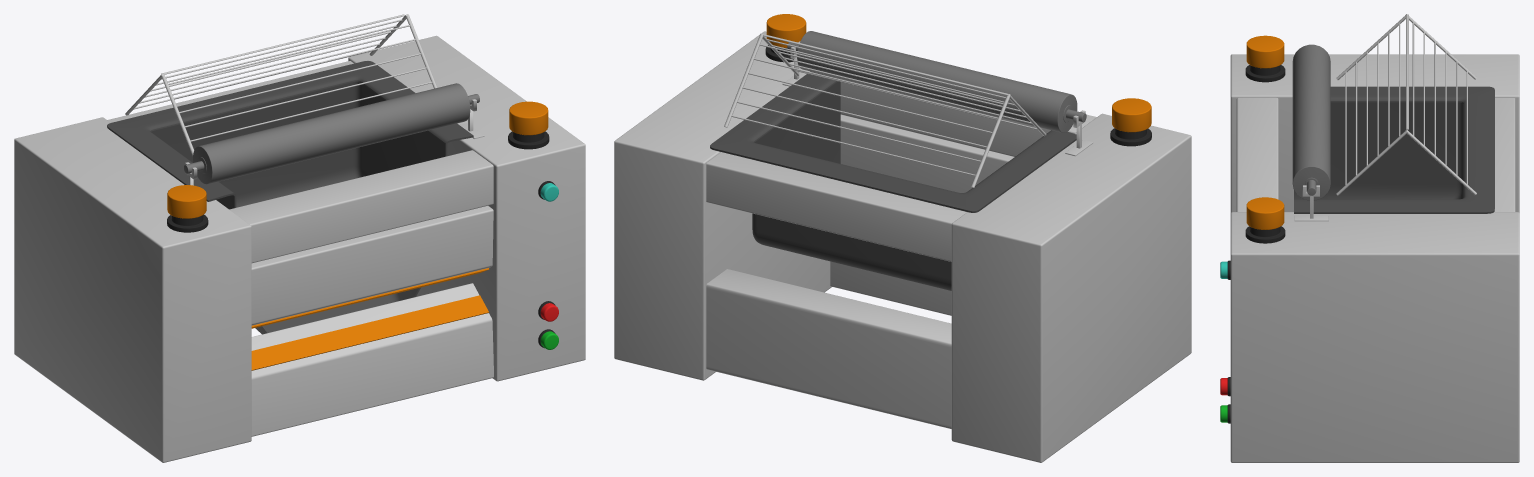
The model's file is dough_roller.FBX.
3 views of the same model, side by side, from view 1: azimuth 30°, elevation 25°; view 2: azimuth 150°, elevation 25°; view 3: azimuth 270°, elevation 25° (orthographic). The views are drawn at different scales.
Parts seen in each view (by area): view 1: main_body01, main_body02, dough_pot, main_body05, main_body04, main_body03, roller, steel_stand, bars01, top_button02, top_button01, main_body06 (+3 smaller); view 2: main_body01, main_body02, main_body07, dough_pot, main_body06, roller, steel_stand, main_body04, main_body03, main_body05, top_button01, top_button02 (+1 smaller); view 3: main_body02, dough_pot, main_body01, roller, steel_stand, main_body03, main_body06, top_button01, top_button02, top_buttonbase01, top_buttonbase02, holder01.
Boxes of the visible parts, x1,y1,x2,y2 form: main_body01: (14,117,251,462); main_body02: (348,35,585,381); dough_pot: (107,61,473,334); main_body05: (251,283,493,436); main_body04: (251,206,493,325); main_body03: (229,150,493,263); roller: (184,83,479,184); steel_stand: (125,14,437,155); bars01: (251,295,488,370); top_button02: (509,101,548,135); top_button01: (167,185,206,218); main_body06: (107,61,353,122); main_body01: (951,113,1191,462); main_body02: (614,31,831,380); main_body07: (706,269,951,428); dough_pot: (710,71,1076,290); main_body06: (706,152,966,261); roller: (787,31,1086,132); steel_stand: (724,33,1046,187); main_body04: (840,114,1014,192); main_body03: (840,79,1096,156); main_body05: (830,261,951,315); top_button01: (1112,98,1151,132); top_button02: (766,14,806,47); main_body02: (1230,212,1519,462); dough_pot: (1294,86,1494,213); main_body01: (1230,54,1519,212); roller: (1292,44,1330,200); steel_stand: (1336,14,1476,195); main_body03: (1236,97,1278,211); main_body06: (1494,98,1515,211); top_button01: (1246,35,1284,68); top_button02: (1246,197,1284,229); top_buttonbase01: (1245,65,1285,82); top_buttonbase02: (1245,226,1285,243); holder01: (1294,185,1328,221).
Bounding box in the file's own units: 498 × 339 × 315.
